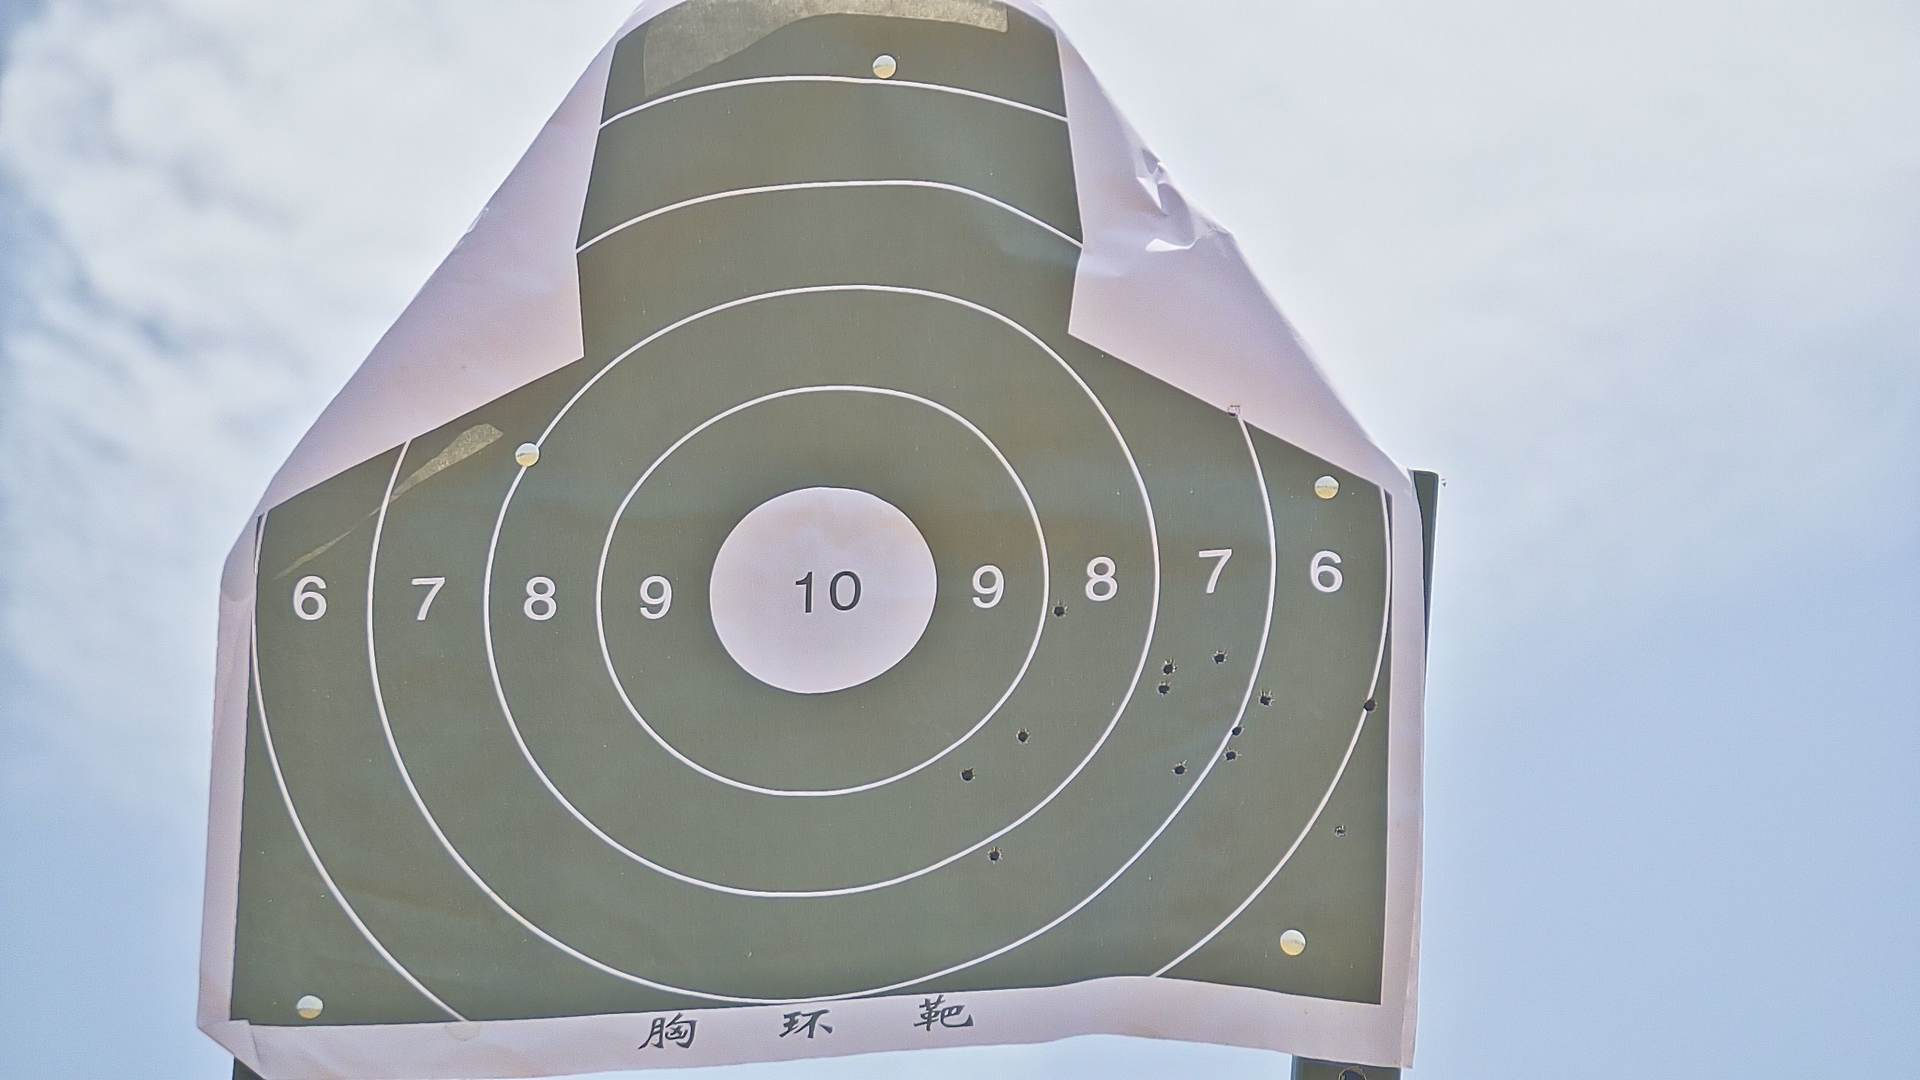hole: (959, 767, 978, 781), (1162, 661, 1178, 674), (1224, 748, 1240, 761), (1052, 603, 1068, 615), (988, 847, 1000, 862), (1213, 651, 1226, 665), (1017, 731, 1030, 742), (1259, 692, 1273, 704), (1364, 699, 1375, 712), (1333, 825, 1346, 837), (1158, 682, 1168, 694), (1232, 725, 1244, 735), (1174, 764, 1185, 773)
kernel: (819, 589, 827, 593)
target: (227, 3, 1394, 1015)
ten: (708, 484, 939, 698)
